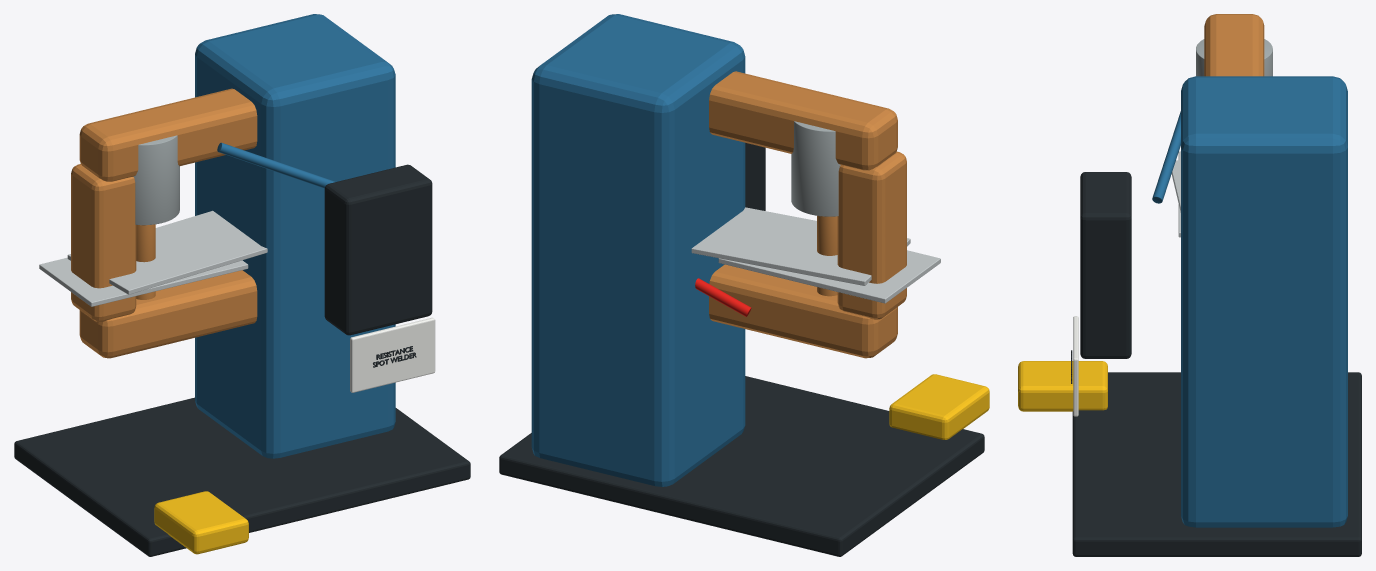
Rendered from resistance_spot_welder.glb.
3 renders of one model, left to right at view 1: azimuth 30°, elevation 25°; view 2: azimuth 150°, elevation 25°; view 3: azimuth 270°, elevation 25°, orthographic. The views are drawn at different scales.
Visible parts, largest first — view 1: WELDER_TRANSFORMER_CABINET, MACHINE_BASE, WELD_CONTROLLER, UPPER_C_ARM, LOWER_C_ARM, BACK_SPINE, OVERLAPPED_SHEET_B, SPOT_WELDER_SIGN, FOOT_SWITCH, PNEUMATIC_CYLINDER, OVERLAPPED_SHEET_A, WATER_HOSE_SUPPLY (+1 smaller); view 2: WELDER_TRANSFORMER_CABINET, MACHINE_BASE, UPPER_C_ARM, LOWER_C_ARM, BACK_SPINE, OVERLAPPED_SHEET_B, FOOT_SWITCH, PNEUMATIC_CYLINDER, OVERLAPPED_SHEET_A, WELD_CONTROLLER, KIN_UPPER_ELECTRODE, WATER_HOSE_RETURN; view 3: WELDER_TRANSFORMER_CABINET, MACHINE_BASE, WELD_CONTROLLER, FOOT_SWITCH, UPPER_C_ARM, WATER_HOSE_SUPPLY, PNEUMATIC_CYLINDER, SPOT_WELDER_SIGN.
Part boxes in pixels (left/top/right/bottom): WELDER_TRANSFORMER_CABINET: left=195, top=14, right=395, bottom=458; MACHINE_BASE: left=14, top=397, right=470, bottom=556; WELD_CONTROLLER: left=324, top=164, right=432, bottom=335; UPPER_C_ARM: left=79, top=88, right=257, bottom=181; LOWER_C_ARM: left=79, top=270, right=257, bottom=358; BACK_SPINE: left=71, top=164, right=136, bottom=321; OVERLAPPED_SHEET_B: left=67, top=210, right=267, bottom=294; SPOT_WELDER_SIGN: left=350, top=317, right=435, bottom=392; FOOT_SWITCH: left=154, top=491, right=248, bottom=554; PNEUMATIC_CYLINDER: left=133, top=135, right=179, bottom=225; OVERLAPPED_SHEET_A: left=39, top=257, right=248, bottom=306; WATER_HOSE_SUPPLY: left=217, top=142, right=334, bottom=188; WELDER_TRANSFORMER_CABINET: left=531, top=14, right=745, bottom=486; MACHINE_BASE: left=499, top=376, right=984, bottom=556; UPPER_C_ARM: left=709, top=71, right=897, bottom=170; LOWER_C_ARM: left=709, top=264, right=897, bottom=358; BACK_SPINE: left=837, top=151, right=906, bottom=319; OVERLAPPED_SHEET_B: left=691, top=207, right=910, bottom=285; FOOT_SWITCH: left=889, top=374, right=989, bottom=439; PNEUMATIC_CYLINDER: left=791, top=121, right=840, bottom=216; OVERLAPPED_SHEET_A: left=718, top=250, right=940, bottom=303; WELD_CONTROLLER: left=745, top=143, right=765, bottom=210; KIN_UPPER_ELECTRODE: left=817, top=216, right=837, bottom=255; WATER_HOSE_RETURN: left=695, top=278, right=751, bottom=316; WELDER_TRANSFORMER_CABINET: left=1181, top=76, right=1347, bottom=527; MACHINE_BASE: left=1072, top=372, right=1361, bottom=556; WELD_CONTROLLER: left=1080, top=172, right=1131, bottom=358; FOOT_SWITCH: left=1018, top=361, right=1107, bottom=411; UPPER_C_ARM: left=1204, top=14, right=1264, bottom=76; WATER_HOSE_SUPPLY: left=1152, top=111, right=1180, bottom=203; PNEUMATIC_CYLINDER: left=1196, top=39, right=1272, bottom=76; SPOT_WELDER_SIGN: left=1073, top=316, right=1078, bottom=416.
Bounding box in the file's own units: 1.89 × 2.1 × 1.61.
